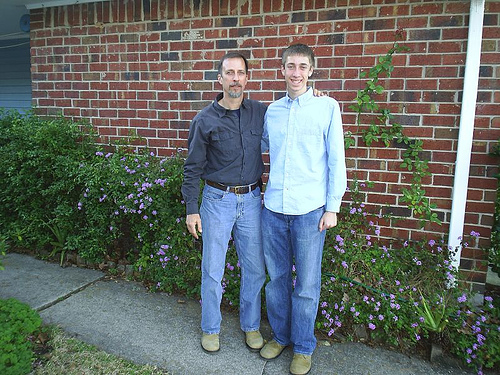without_mask: (278, 53, 316, 92), (218, 59, 250, 101)
